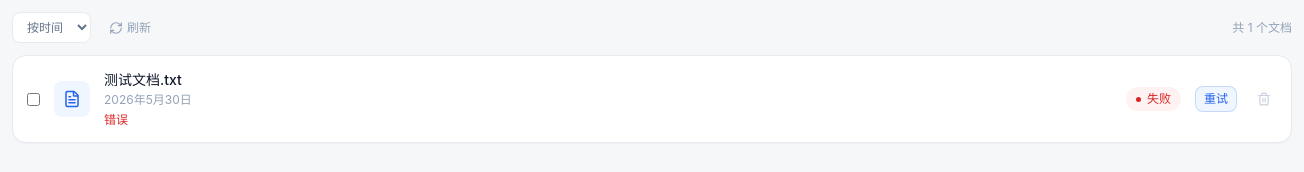
Test: DocList 状态显示 › 重试中按钮 disabled
The width and height of the screenshot is (1304, 172).
Click the button "重试": click(1216, 99) [1195,86,1237,112]
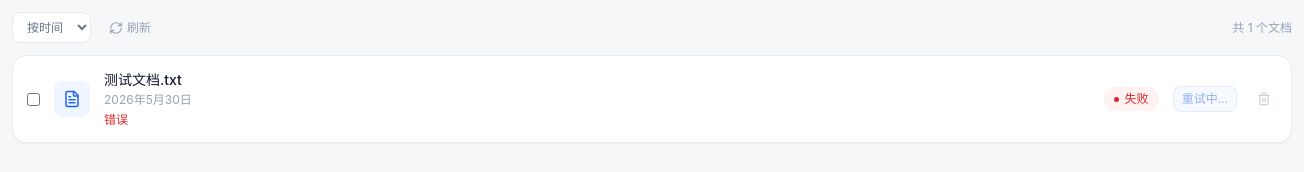
Check: the button "重试中..." is disabled, box [1173,86,1237,112]
